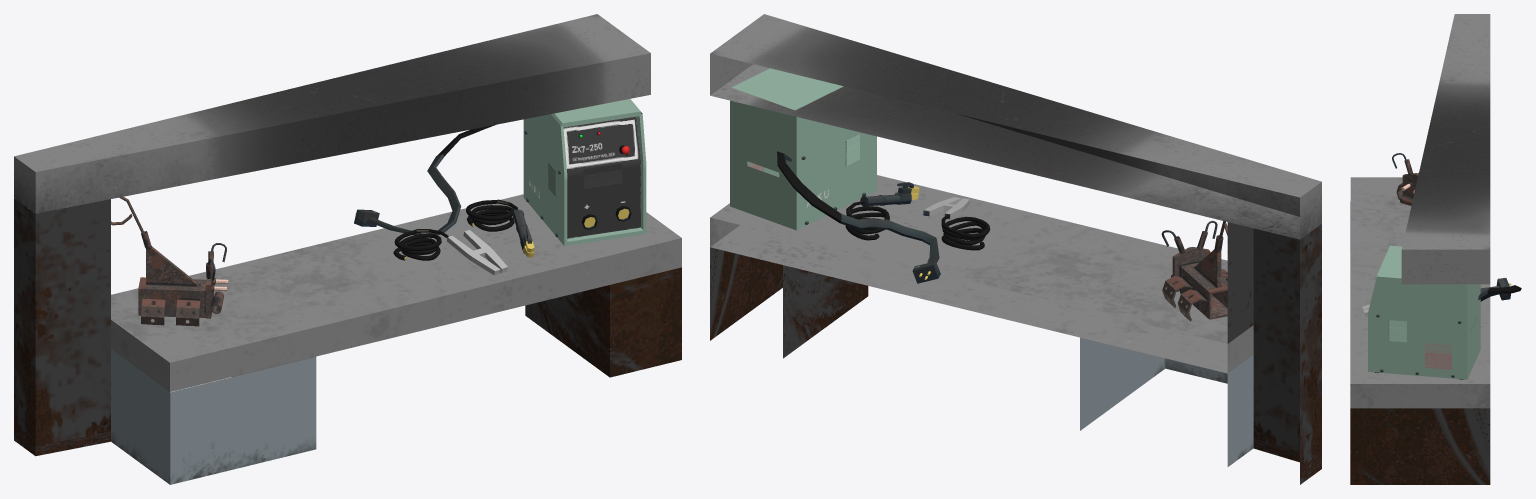
The model's file is Ray_Prop_Metal_mrodriguez.fbx.
The picture shows the model from 3 angles, left to right: view 1: azimuth 30°, elevation 25°; view 2: azimuth 150°, elevation 25°; view 3: azimuth 270°, elevation 25°; orthographic projection. The views are drawn at different scales.
Parts seen in each view (by area): view 1: polySurface449, polySurface418, polySurface450, polySurface419, polySurface415, polySurface451, polySurface409, polySurface424, polySurface444, polySurface412, polySurface439, polySurface440; view 2: polySurface449, polySurface418, polySurface450, polySurface415, polySurface451, polySurface419, polySurface409, polySurface424, polySurface444, polySurface412, polySurface400, polySurface439; view 3: polySurface449, polySurface418, polySurface415, polySurface451, polySurface409, polySurface423.
Boxes of the visible parts, x1,y1,x2,y2 form: polySurface449: (14, 14, 650, 213); polySurface418: (111, 194, 681, 391); polySurface450: (14, 198, 110, 456); polySurface419: (111, 349, 316, 484); polySurface415: (523, 99, 646, 246); polySurface451: (525, 267, 681, 377); polySurface409: (354, 125, 494, 237); polySurface424: (138, 277, 206, 317); polySurface444: (393, 229, 448, 260); polySurface412: (466, 199, 518, 231); polySurface439: (146, 246, 198, 285); polySurface440: (447, 230, 507, 275); polySurface449: (710, 14, 1321, 239); polySurface418: (710, 175, 1253, 373); polySurface450: (1227, 222, 1321, 484); polySurface415: (730, 68, 876, 230); polySurface451: (710, 247, 868, 358); polySurface419: (1080, 337, 1253, 466); polySurface409: (777, 151, 940, 283); polySurface424: (1180, 262, 1227, 319); polySurface444: (941, 214, 990, 250); polySurface412: (845, 200, 889, 240); polySurface400: (860, 182, 919, 206); polySurface439: (1194, 249, 1221, 287); polySurface449: (1401, 14, 1490, 284); polySurface418: (1350, 177, 1490, 408); polySurface415: (1368, 245, 1480, 379); polySurface451: (1350, 408, 1490, 484); polySurface409: (1478, 278, 1521, 301); polySurface423: (1402, 173, 1418, 197).
Bounding box in the file's own units: 3.98 × 1.85 × 1.22.
